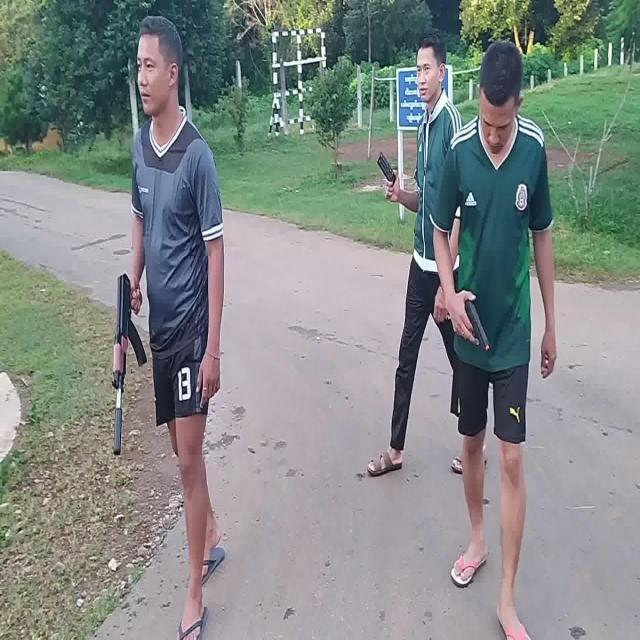gun: (112, 276, 148, 453), (466, 300, 490, 353)
